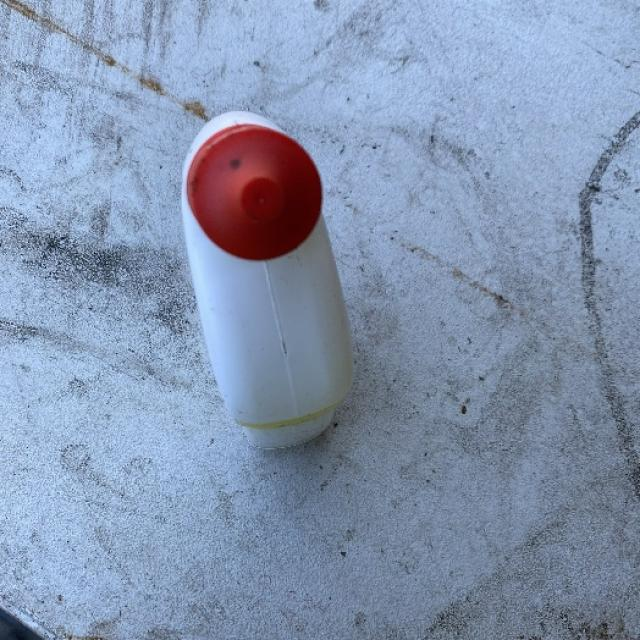plastic: (178, 110, 354, 449)
